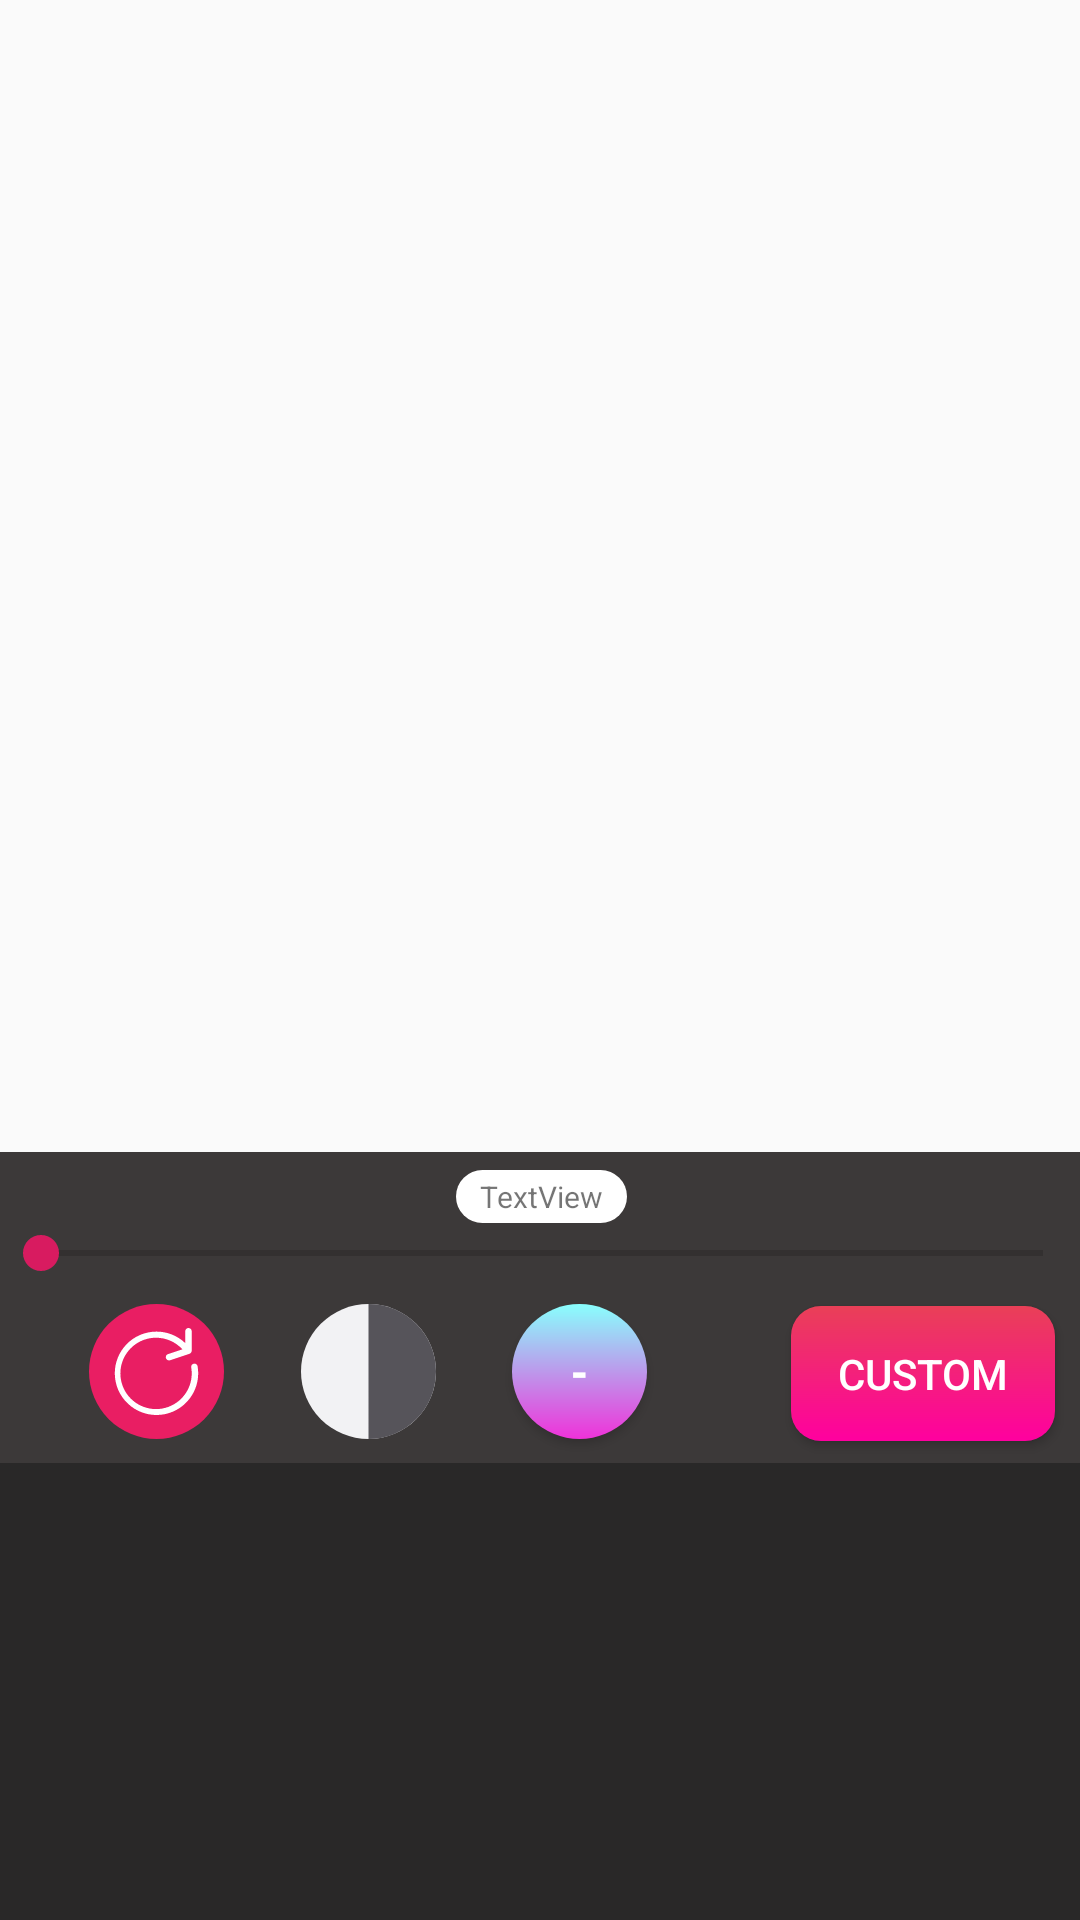

Point at icon controls on the screen. Image size 1080px×1920px, points as (x,y).
refresh: (156,1371)
